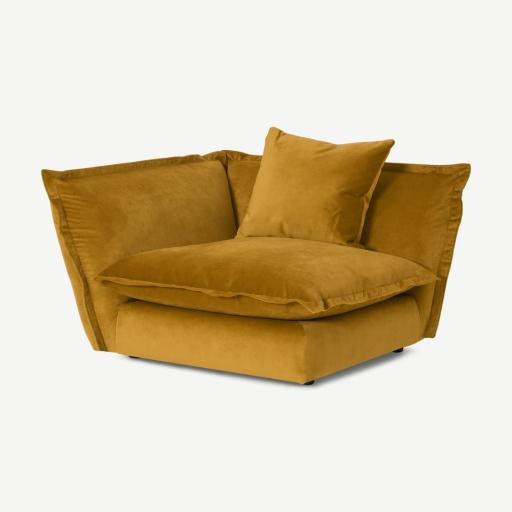back_cushion: (237, 128, 393, 246)
base: (116, 295, 419, 383)
left_arm: (360, 163, 469, 337)
one-seater: (0, 0, 511, 512)
right_arm: (42, 152, 235, 350)
seat_cushion: (97, 237, 436, 320)
